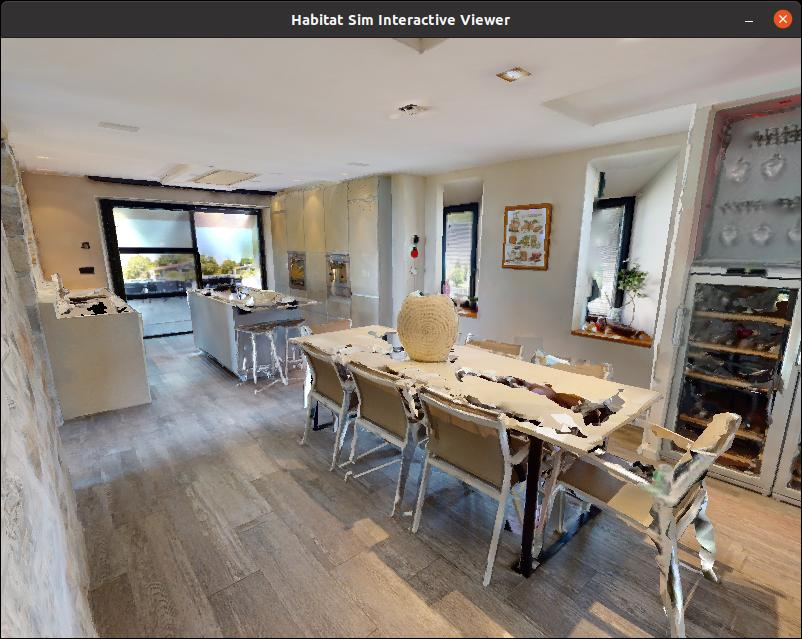chair: (558, 389, 783, 628), (407, 381, 549, 579), (333, 361, 436, 503)
table: (293, 307, 660, 552), (187, 277, 309, 370)
